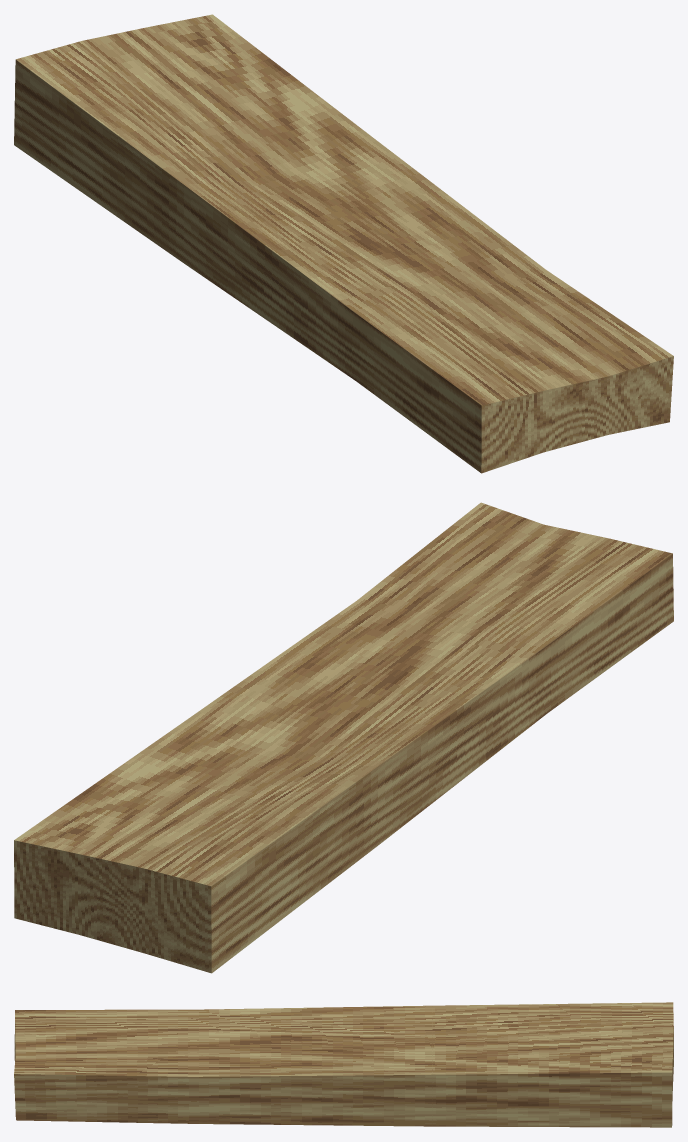
File: step_solid.glb
3 views of the same model, one above another, from view 1: azimuth 30°, elevation 25°; view 2: azimuth 150°, elevation 25°; view 3: azimuth 270°, elevation 25° (orthographic). The views are drawn at different scales.
Parts seen in each view (by area): view 1: Cube.005; view 2: Cube.005; view 3: Cube.005.
Boxes of the visible parts, left/top/right/bottom form: Cube.005: left=14, top=14, right=673, bottom=473; Cube.005: left=14, top=502, right=673, bottom=973; Cube.005: left=14, top=1002, right=673, bottom=1127.
Bounding box in the file's own units: 0.9858 × 0.4186 × 4.01.
Materials: 1 (1 with a texture image).
